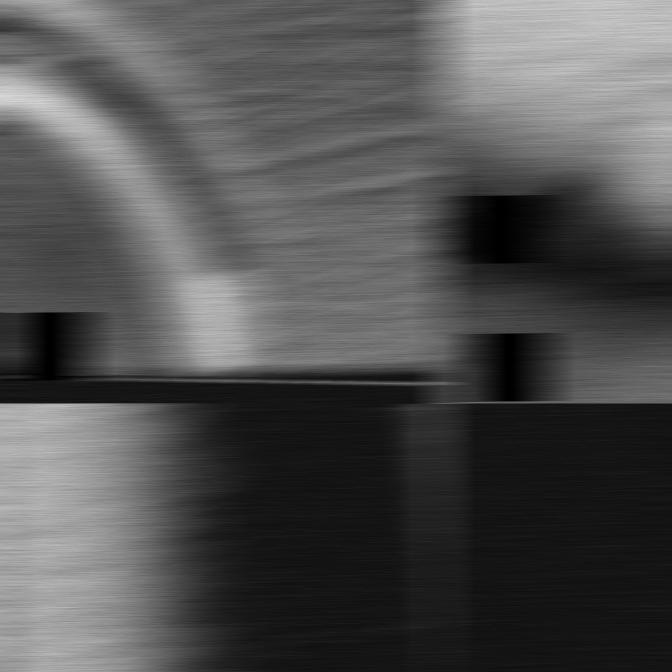Airbag: (0, 0, 450, 403), (0, 403, 450, 672), (435, 0, 672, 403)
